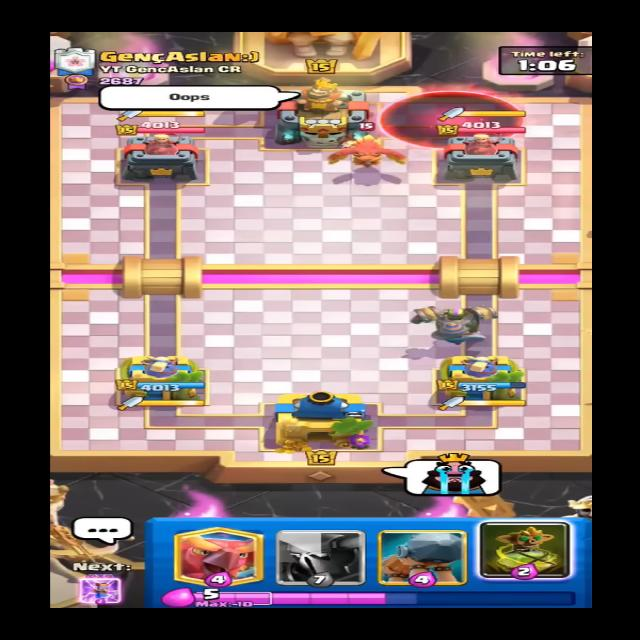phoenix: (301, 123, 423, 172)
